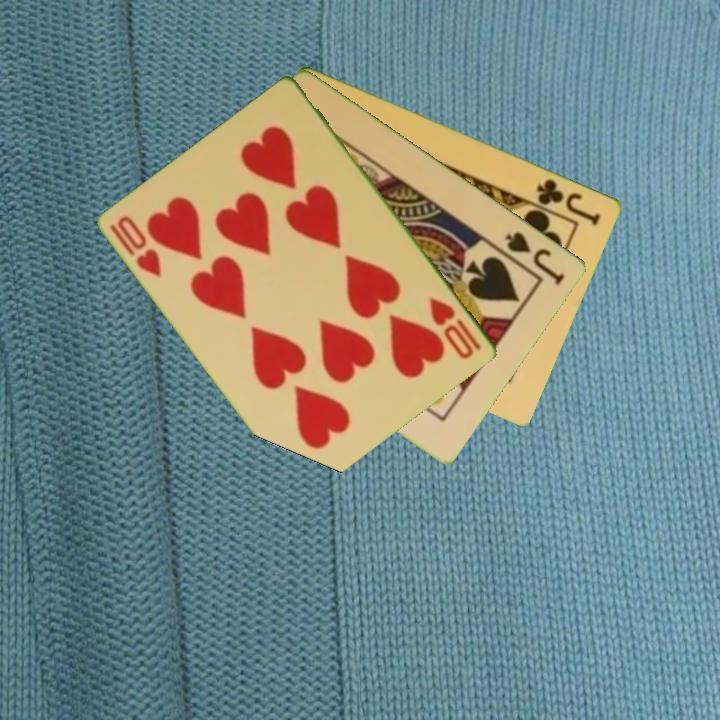10h: (426, 293, 485, 362), (106, 212, 165, 281)
Jc: (533, 175, 604, 228)
Js: (501, 227, 569, 288)
